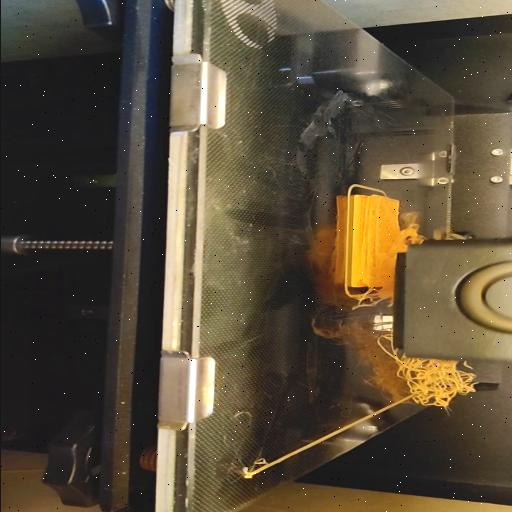spaghetti: (388, 359, 480, 406), (374, 338, 396, 356)
